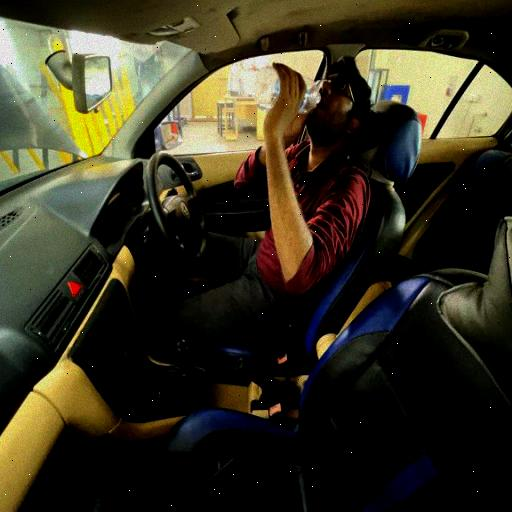Drinking: (201, 45, 378, 299)
